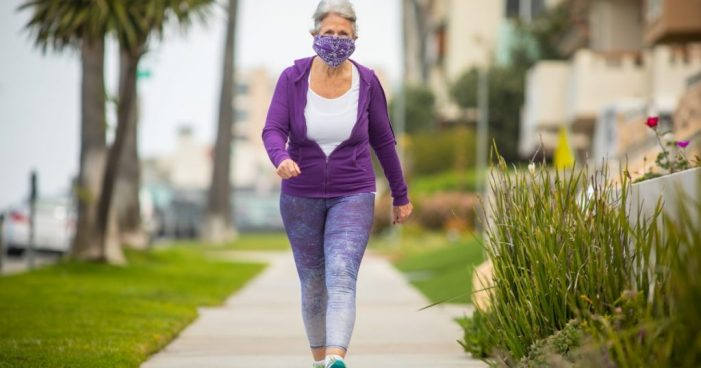mask: (306, 32, 362, 68)
